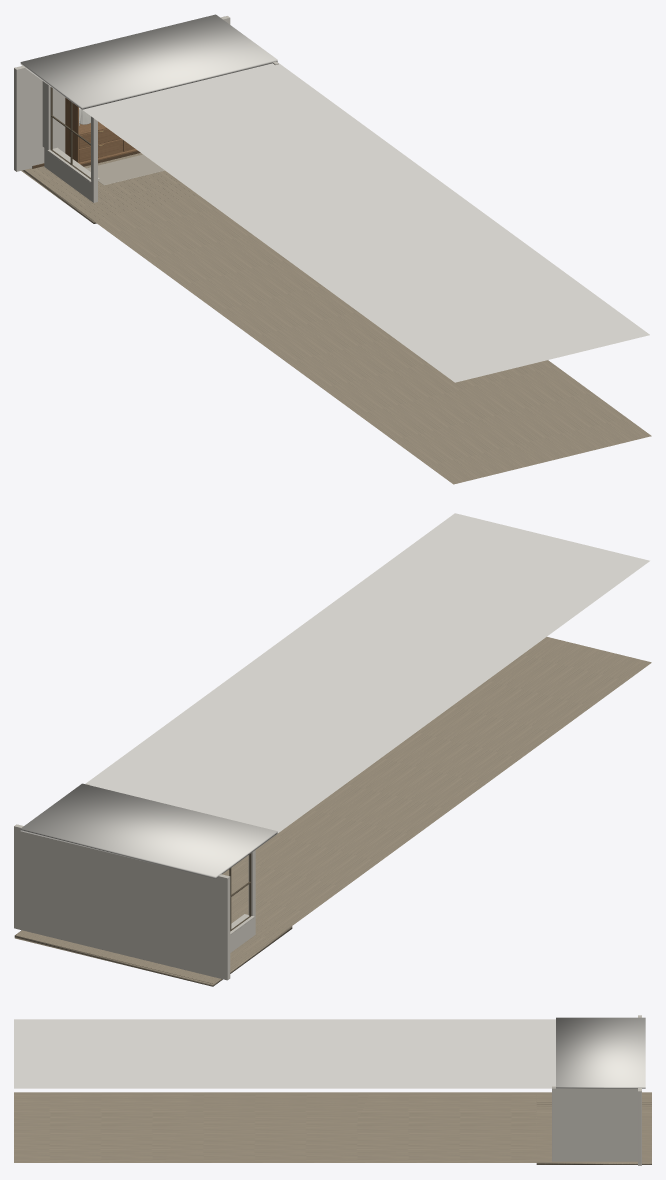
Rendered from wardrobe.glb.
The picture shows the model from 3 angles, top to bottom: view 1: azimuth 30°, elevation 25°; view 2: azimuth 150°, elevation 25°; view 3: azimuth 270°, elevation 25°; orthographic projection. The views are drawn at different scales.
Visible parts, largest first — view 1: Ceiling continuation without light occlusion, Floor continuation with aligned oak planks, Ceiling, Room — Warm limestone plaster, Room — Pale oak floor, Room — Warm quarter-sawn walnut, Understated woven runner; view 2: Ceiling continuation without light occlusion, Floor continuation with aligned oak planks, Room — Warm limestone plaster, Ceiling, Room — Pale oak floor; view 3: Ceiling continuation without light occlusion, Floor continuation with aligned oak planks, Room — Warm limestone plaster, Ceiling, Room — Pale oak floor.
Part boxes in pixels (x1,y1,x2,y2): Ceiling continuation without light occlusion: (82,62,649,382); Floor continuation with aligned oak planks: (94,195,651,484); Ceiling: (20,14,277,109); Room — Warm limestone plaster: (14,16,278,202); Room — Pale oak floor: (21,153,198,223); Room — Warm quarter-sawn walnut: (65,97,137,164); Understated woven runner: (86,154,164,185); Ceiling continuation without light occlusion: (85,513,649,833); Floor continuation with aligned oak planks: (222,637,651,925); Room — Warm limestone plaster: (14,783,255,980); Ceiling: (20,783,277,878); Room — Pale oak floor: (14,911,292,986); Ceiling continuation without light occlusion: (14,1019,555,1088); Floor continuation with aligned oak planks: (14,1092,536,1162); Room — Warm limestone plaster: (552,1015,641,1165); Ceiling: (556,1017,645,1088); Room — Pale oak floor: (536,1092,651,1164).
Bounding box in the file's own units: 7 × 3.35 × 24.9.
Materials: 53 (22 with a texture image).
